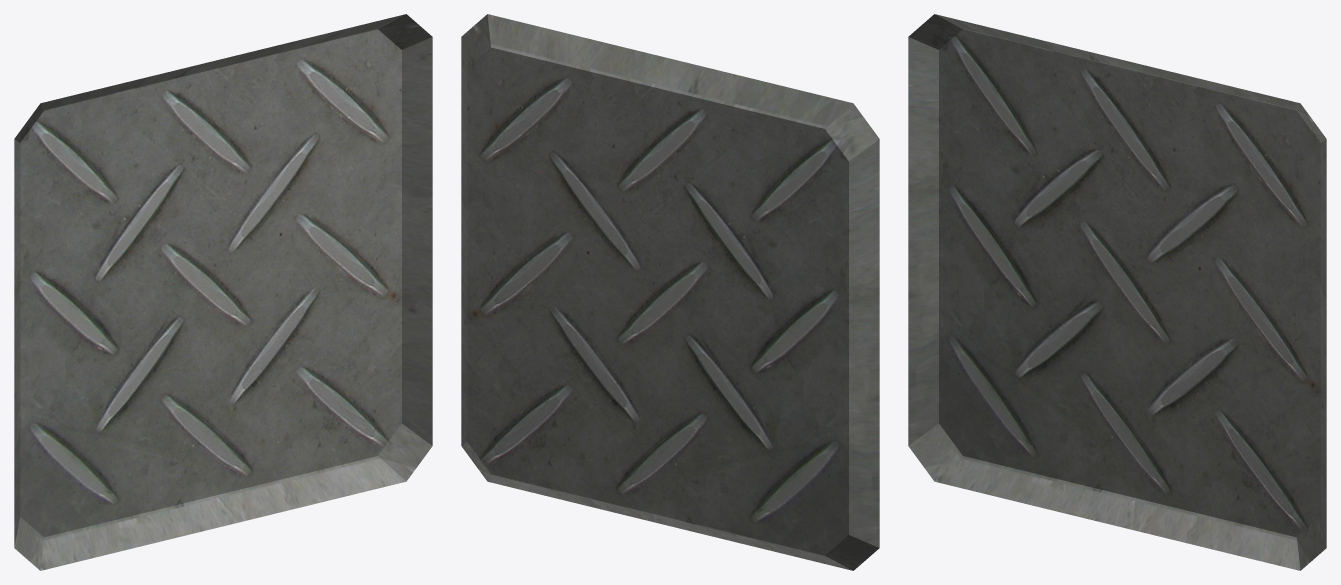
File: P06_syouji_steel.fbx
3 renders of one model, left to right at view 1: azimuth 30°, elevation 25°; view 2: azimuth 150°, elevation 25°; view 3: azimuth 330°, elevation 25°, orthographic.
Visible parts, largest first — view 1: syouji_steel01; view 2: syouji_steel01; view 3: syouji_steel01.
Part boxes in pixels (x1,y1,x2,y2): syouji_steel01: (14, 14, 432, 570); syouji_steel01: (461, 14, 879, 570); syouji_steel01: (908, 14, 1326, 570).
Size of the model in its own units: 8.4 by 8.97 by 0.4331.
